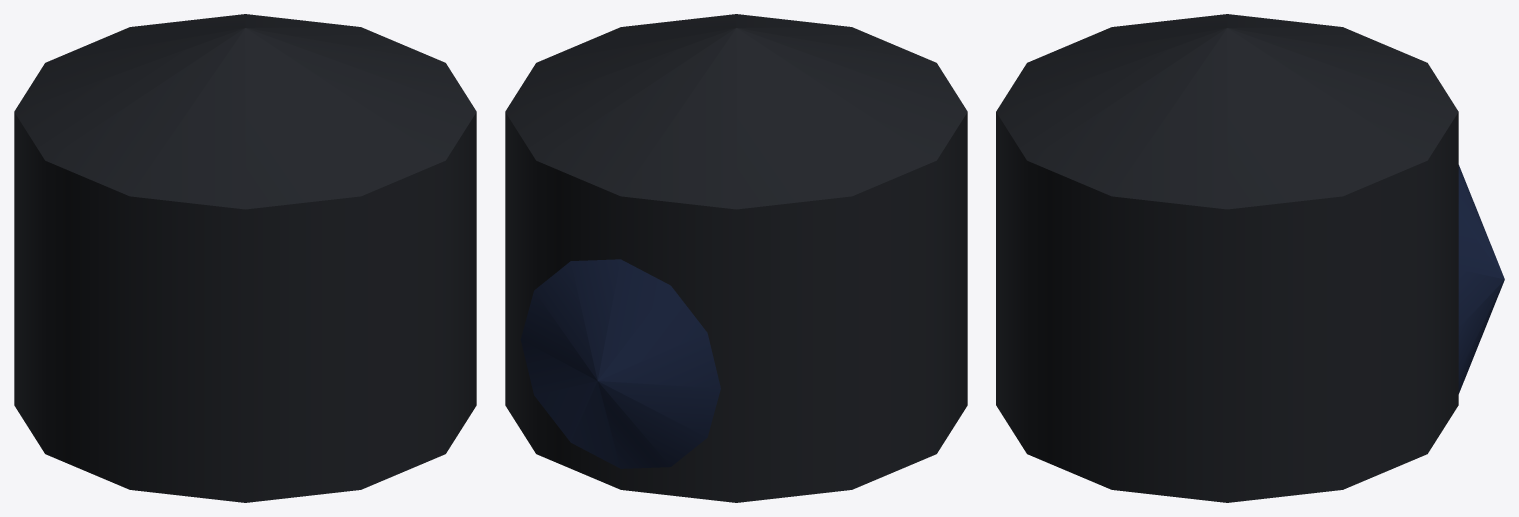
Rendered from klegg_camera.obj.
3 renders of one model, left to right at view 1: azimuth 30°, elevation 25°; view 2: azimuth 150°, elevation 25°; view 3: azimuth 270°, elevation 25°, orthographic.
Visible parts, largest first — view 1: klegg_camera; view 2: klegg_camera; view 3: klegg_camera.
Part boxes in pixels (box(x1,y1,x2,y2)): klegg_camera: box(14, 14, 476, 502); klegg_camera: box(505, 14, 967, 502); klegg_camera: box(996, 14, 1504, 502).
Bounding box in the file's own units: 0.1 × 0.1 × 0.11.
